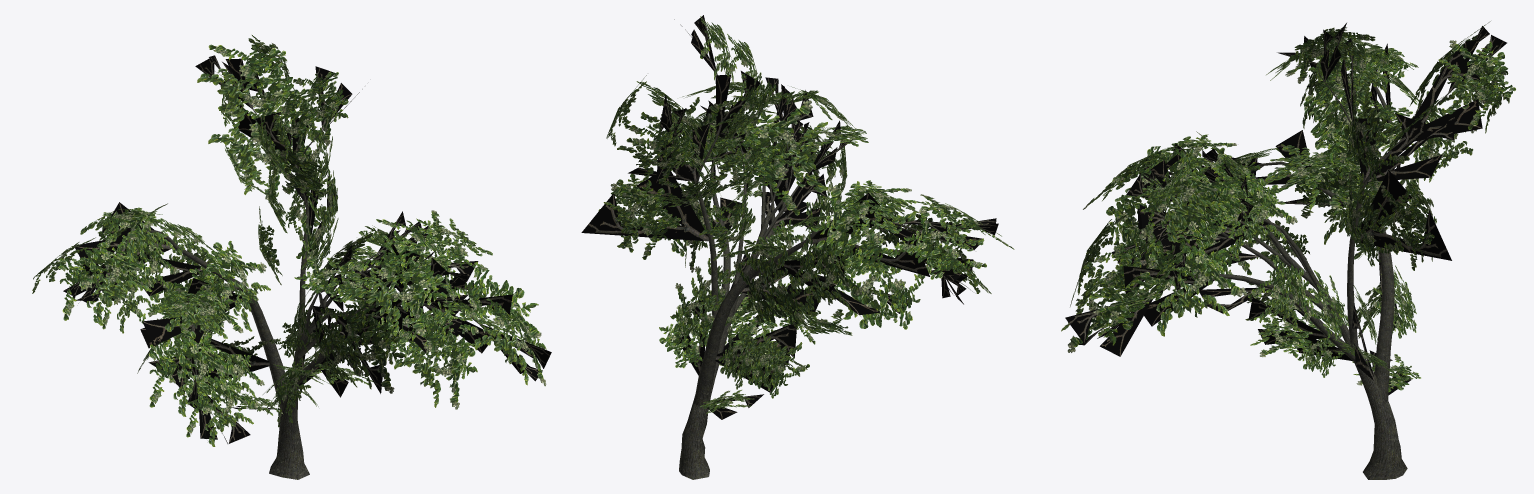
File: tree_elm_02.DAE
3 renders of one model, left to right at view 1: azimuth 30°, elevation 25°; view 2: azimuth 150°, elevation 25°; view 3: azimuth 270°, elevation 25°, orthographic. The views are drawn at different scales.
Parts seen in each view (by area): view 1: SOMA_elm_02_AmericanElmLeaves_1, SOMA_elm_02_Branches_03, SOMA_elm_02_AmericanElmLeaves_2, SOMA_elm_02_AmericanElmLeaves_005, SOMA_elm_02_AmericanElmBark, SOMA_elm_02_AmericanElmLeaves_004; view 2: SOMA_elm_02_AmericanElmLeaves_1, SOMA_elm_02_Branches_03, SOMA_elm_02_AmericanElmLeaves_005, SOMA_elm_02_AmericanElmBark, SOMA_elm_02_AmericanElmLeaves_2, SOMA_elm_02_AmericanElmLeaves_004; view 3: SOMA_elm_02_AmericanElmLeaves_1, SOMA_elm_02_Branches_03, SOMA_elm_02_AmericanElmLeaves_2, SOMA_elm_02_AmericanElmLeaves_005, SOMA_elm_02_AmericanElmBark, SOMA_elm_02_AmericanElmLeaves_004.
Part boxes in pixels (x1,y1,x2,y2): SOMA_elm_02_AmericanElmLeaves_1: (32,35,546,446); SOMA_elm_02_Branches_03: (63,55,551,443); SOMA_elm_02_AmericanElmLeaves_2: (80,135,541,368); SOMA_elm_02_AmericanElmLeaves_005: (33,38,545,446); SOMA_elm_02_AmericanElmBark: (78,64,519,479); SOMA_elm_02_AmericanElmLeaves_004: (81,135,540,366); SOMA_elm_02_AmericanElmLeaves_1: (598,16,1014,413); SOMA_elm_02_Branches_03: (581,15,998,419); SOMA_elm_02_AmericanElmLeaves_005: (599,19,1013,413); SOMA_elm_02_AmericanElmBark: (672,19,972,479); SOMA_elm_02_AmericanElmLeaves_2: (680,82,916,297); SOMA_elm_02_AmericanElmLeaves_004: (681,82,916,288); SOMA_elm_02_AmericanElmLeaves_1: (1061,21,1515,392); SOMA_elm_02_Branches_03: (1065,23,1506,395); SOMA_elm_02_AmericanElmLeaves_2: (1089,48,1418,313); SOMA_elm_02_AmericanElmLeaves_005: (1064,28,1515,390); SOMA_elm_02_AmericanElmBark: (1159,63,1454,479); SOMA_elm_02_AmericanElmLeaves_004: (1089,49,1416,312).
Size of the model in its own units: 9.39 by 8.96 by 8.12.
